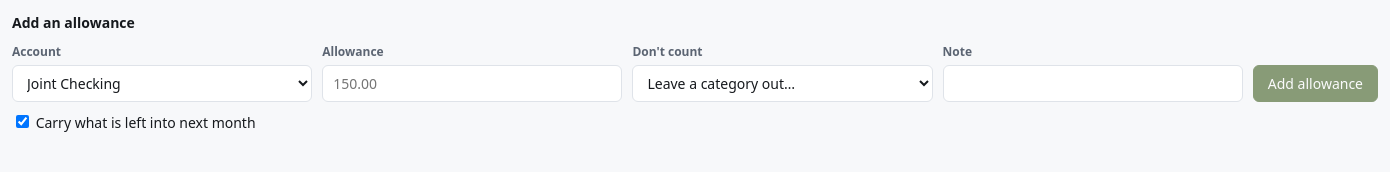
AccountLineForm › needs an amount before it can be added
Check: the button "Add allowance" is disabled, box x1=1253 y1=65 x2=1378 y2=102
Type "150" into the field labelled "Allowance" at (472, 84), box x1=322 y1=65 x2=622 y2=102
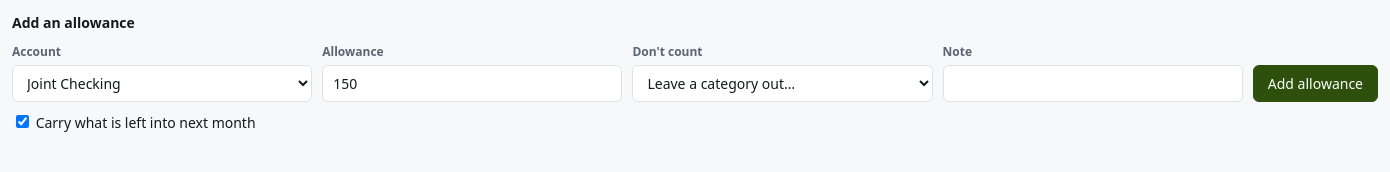
Check: the button "Add allowance" is enabled, box x1=1253 y1=65 x2=1378 y2=102
